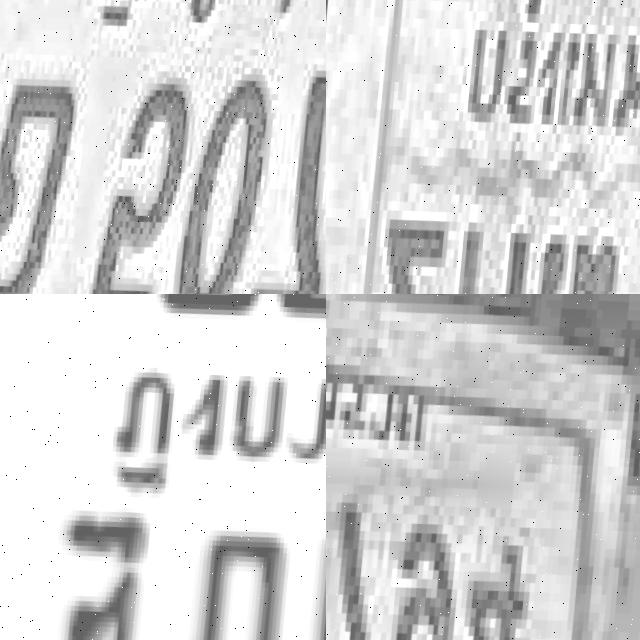license-plate: (0, 294, 326, 640), (326, 294, 640, 640), (0, 0, 326, 294), (326, 0, 640, 294)
